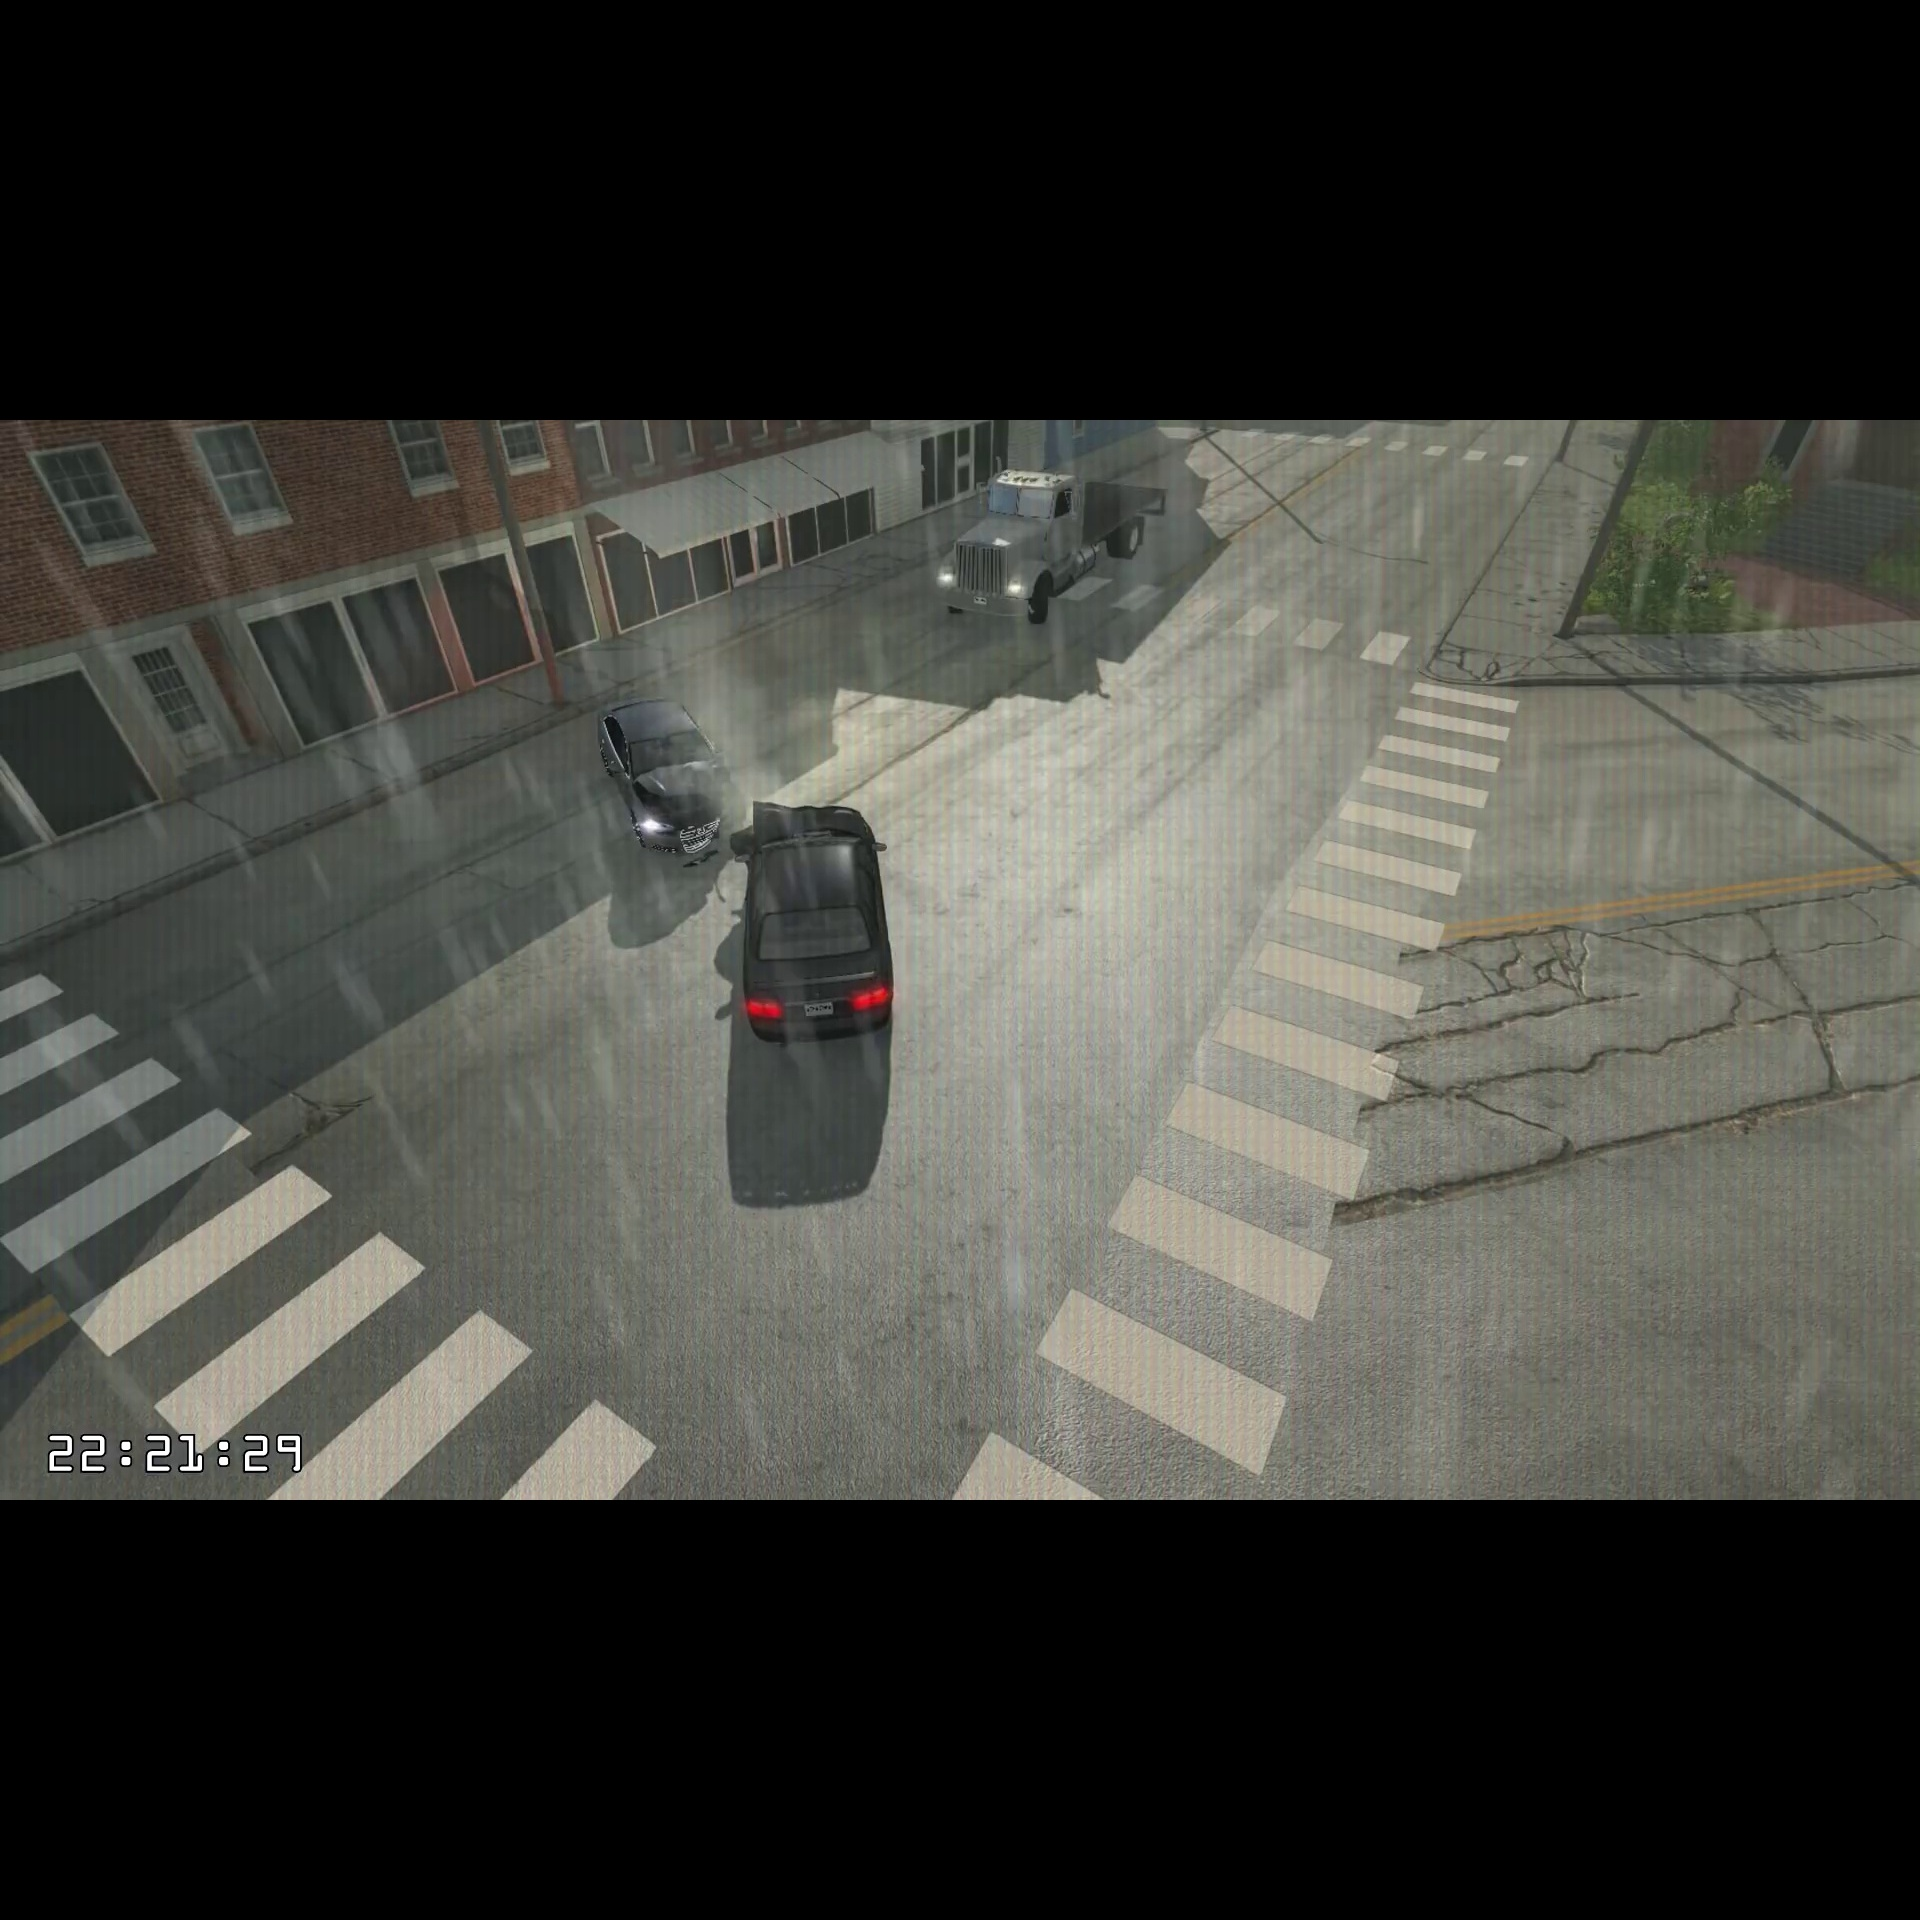vehicle: (728, 795, 907, 1060), (920, 464, 1176, 638), (584, 689, 754, 870)
